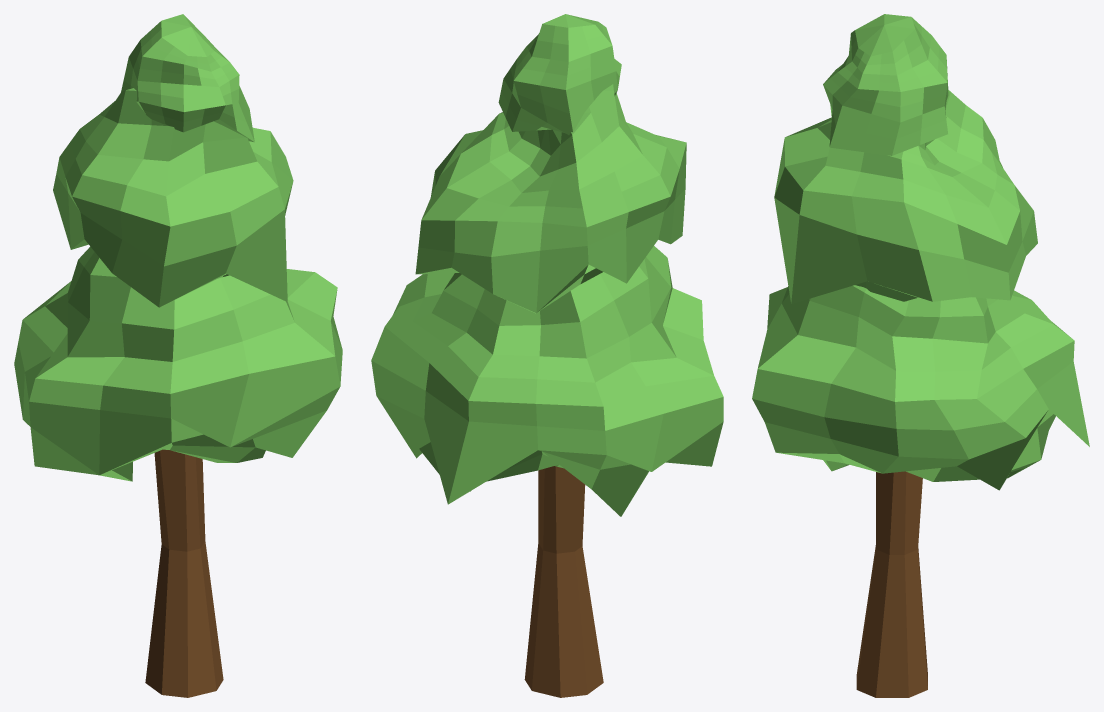
File: Tree 7.fbx
The picture shows the model from 3 angles, left to right: view 1: azimuth 30°, elevation 25°; view 2: azimuth 150°, elevation 25°; view 3: azimuth 270°, elevation 25°; orthographic projection.
Visible parts, largest first — view 1: Cube.006; view 2: Cube.006; view 3: Cube.006.
Part boxes in pixels (<box>): Cube.006: <box>14,14,342,697</box>; Cube.006: <box>371,14,723,697</box>; Cube.006: <box>752,14,1089,697</box>.
Bounding box in the file's own units: 403 × 813 × 378.
